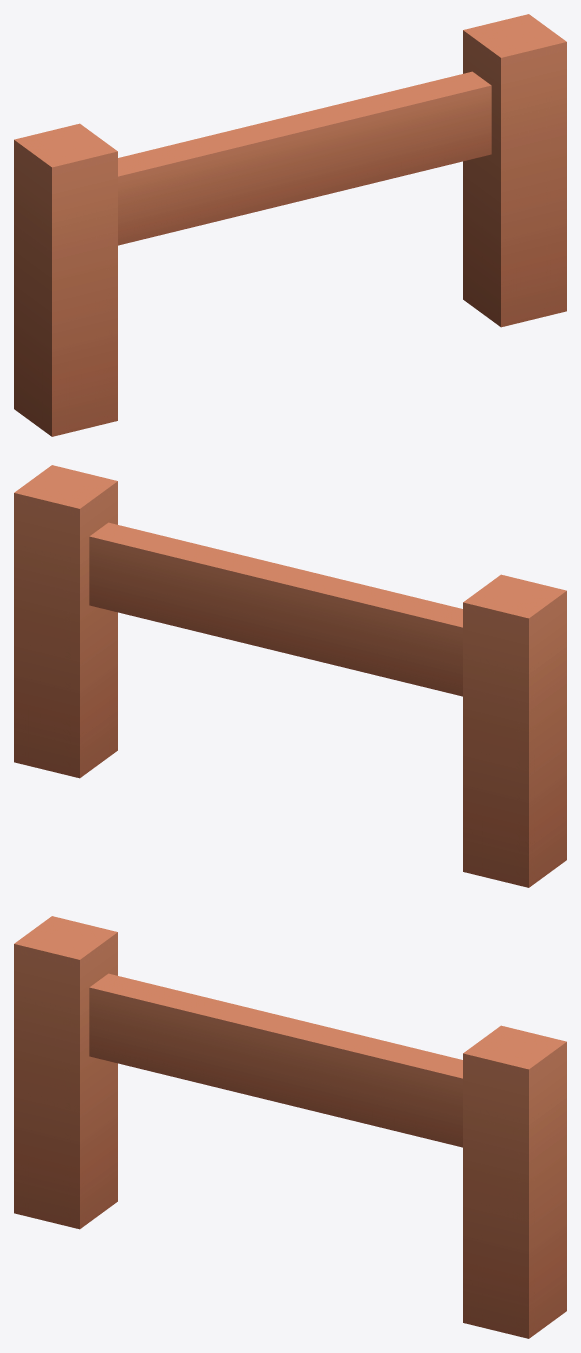
The model's file is wood-structure-part.glb.
The picture shows the model from 3 angles, top to bottom: view 1: azimuth 30°, elevation 25°; view 2: azimuth 150°, elevation 25°; view 3: azimuth 330°, elevation 25°; orthographic projection.
Parts seen in each view (by area): view 1: wood-structure-part; view 2: wood-structure-part; view 3: wood-structure-part.
Part boxes in pixels (<box>): wood-structure-part: <box>14,14,566,436</box>; wood-structure-part: <box>14,465,566,887</box>; wood-structure-part: <box>14,916,566,1338</box>.
Size of the model in its own units: 1 by 0.5 by 0.128.
Materials: 1 (1 with a texture image).
